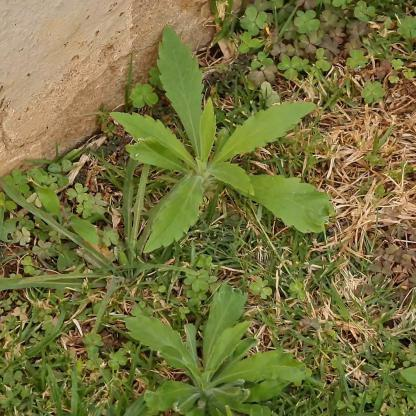Weeds: (109, 25, 334, 254), (125, 280, 314, 415)
